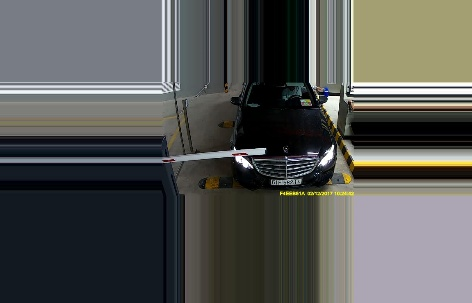plate: (270, 177, 303, 186)
